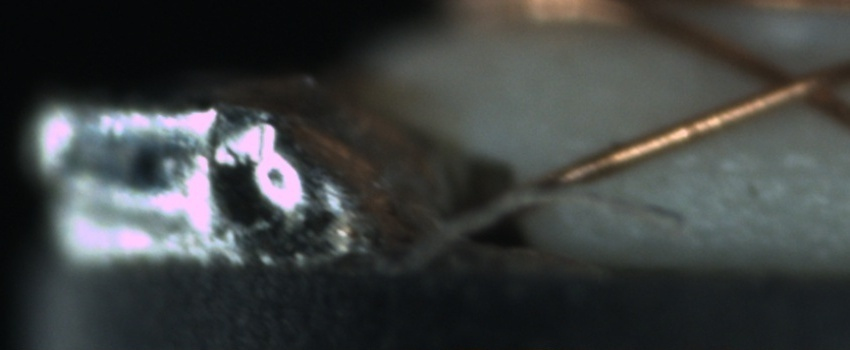CL: (738, 47, 847, 119)
DL: (676, 140, 847, 202)
